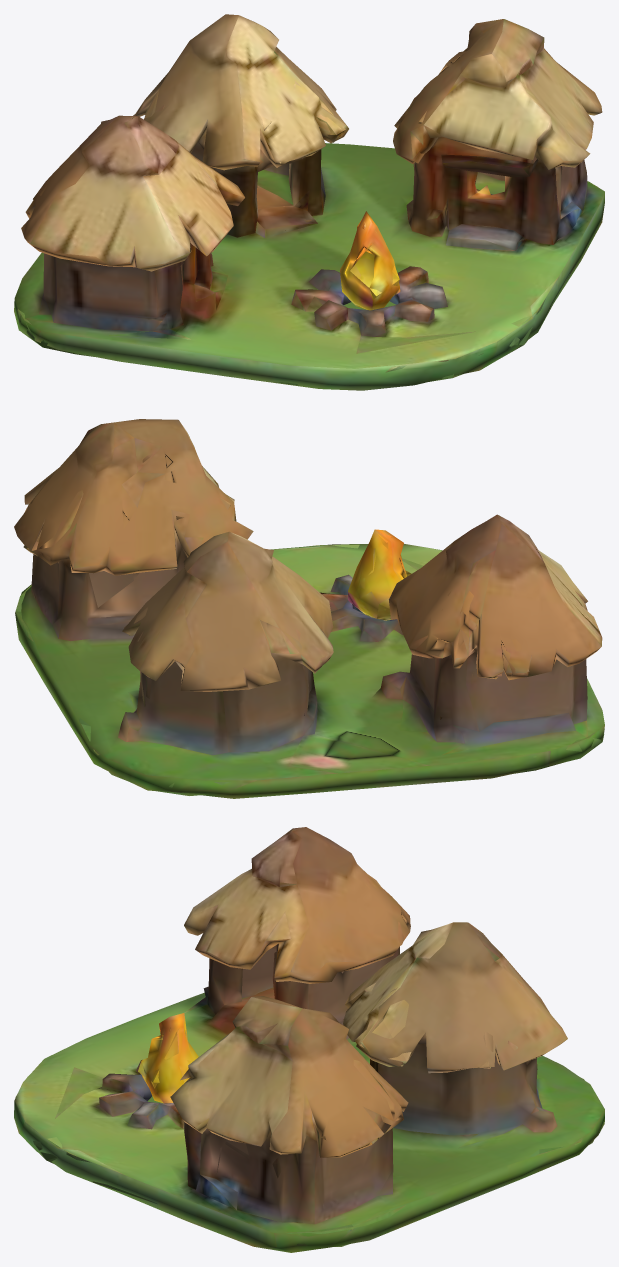
Rendered from village.glb.
3 renders of one model, top to bottom at view 1: azimuth 30°, elevation 25°; view 2: azimuth 150°, elevation 25°; view 3: azimuth 270°, elevation 25°, orthographic. The views are drawn at different scales.
Parts seen in each view (by area): view 1: level; view 2: level; view 3: level.
Boxes of the visible parts, x1,y1,x2,y2 form: level: (14,14,604,390); level: (14,419,604,798); level: (14,827,604,1252).
Size of the model in its own units: 0.9089 by 0.3209 by 0.8251.
1 material, 1 textured.
